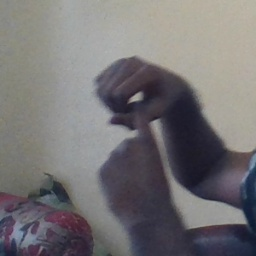Q: (96, 54, 180, 198)
